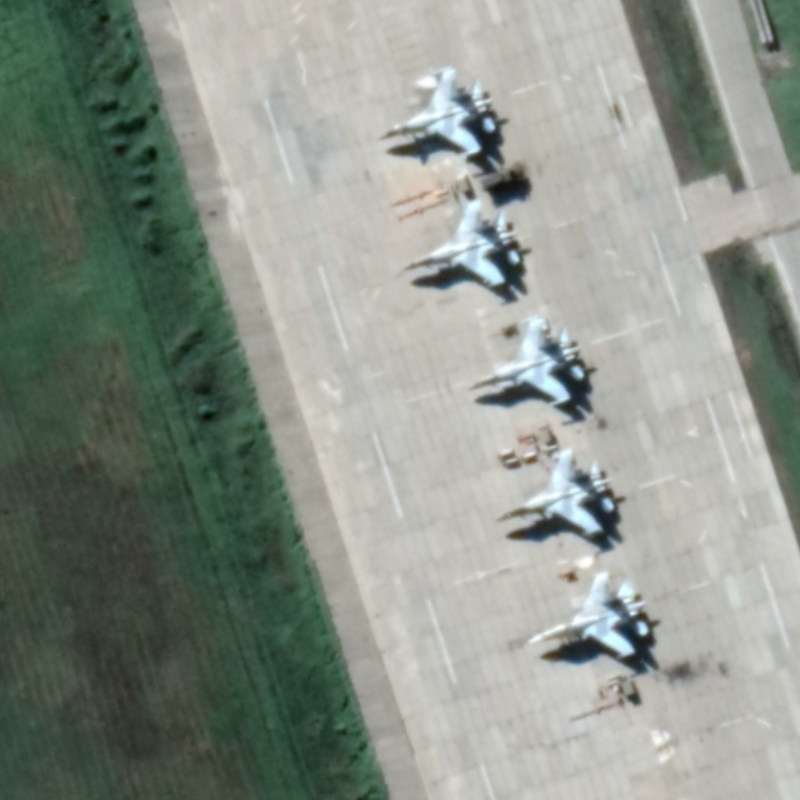A1: (374, 63, 501, 164), (463, 313, 589, 412), (491, 444, 618, 542), (399, 197, 525, 292), (525, 573, 654, 664)
